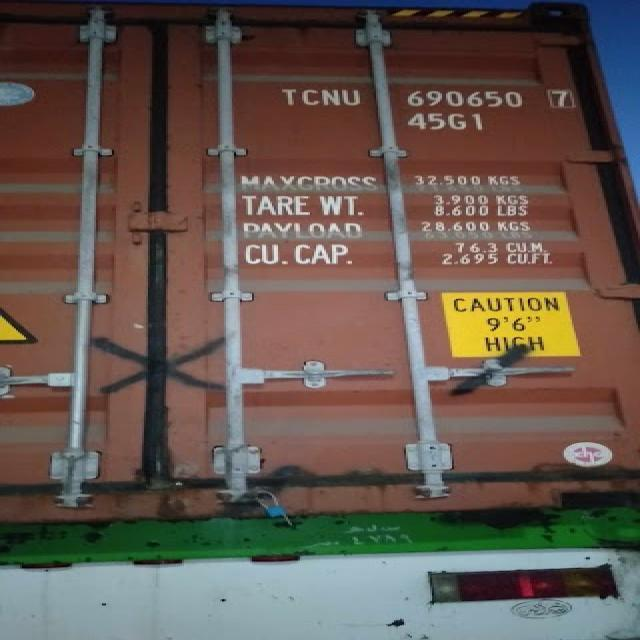ISO: (396, 108, 486, 134)
container_number: (274, 85, 578, 114)
